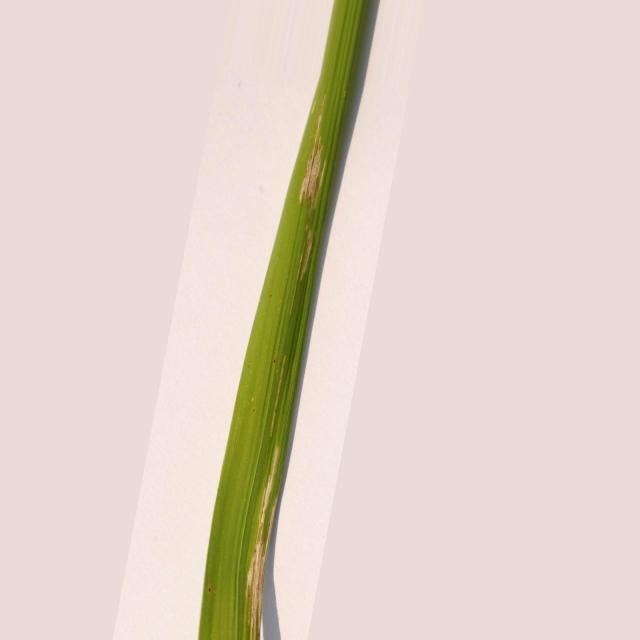Bacterial_Leaf_Blight: (245, 441, 281, 639), (298, 94, 325, 282), (270, 358, 286, 439)
